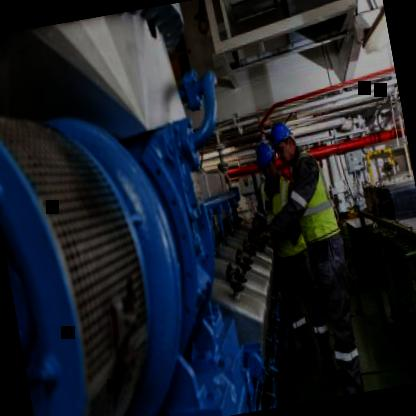helmet: (266, 113, 301, 165), (252, 140, 280, 184)
